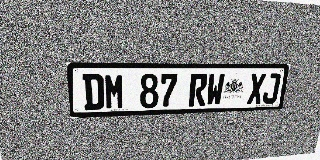7: (159, 73, 178, 108)
8: (140, 74, 159, 108)
D: (82, 74, 105, 110)
J: (262, 73, 281, 104)
M: (104, 74, 125, 110)
R: (188, 73, 208, 107)
W: (206, 73, 225, 106)
X: (247, 73, 266, 104)
